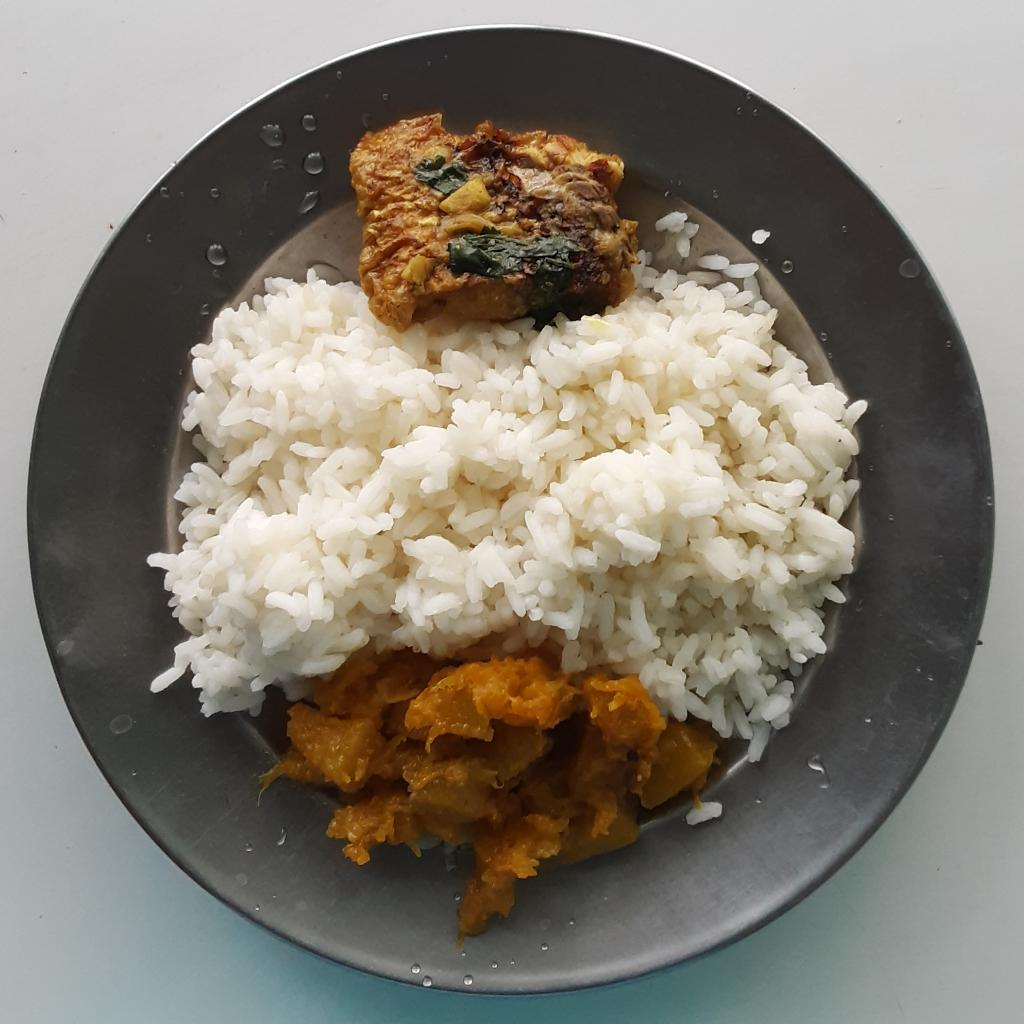fish: (348, 105, 637, 333)
kumra-vaji: (262, 657, 720, 933)
rice: (140, 213, 866, 763)
